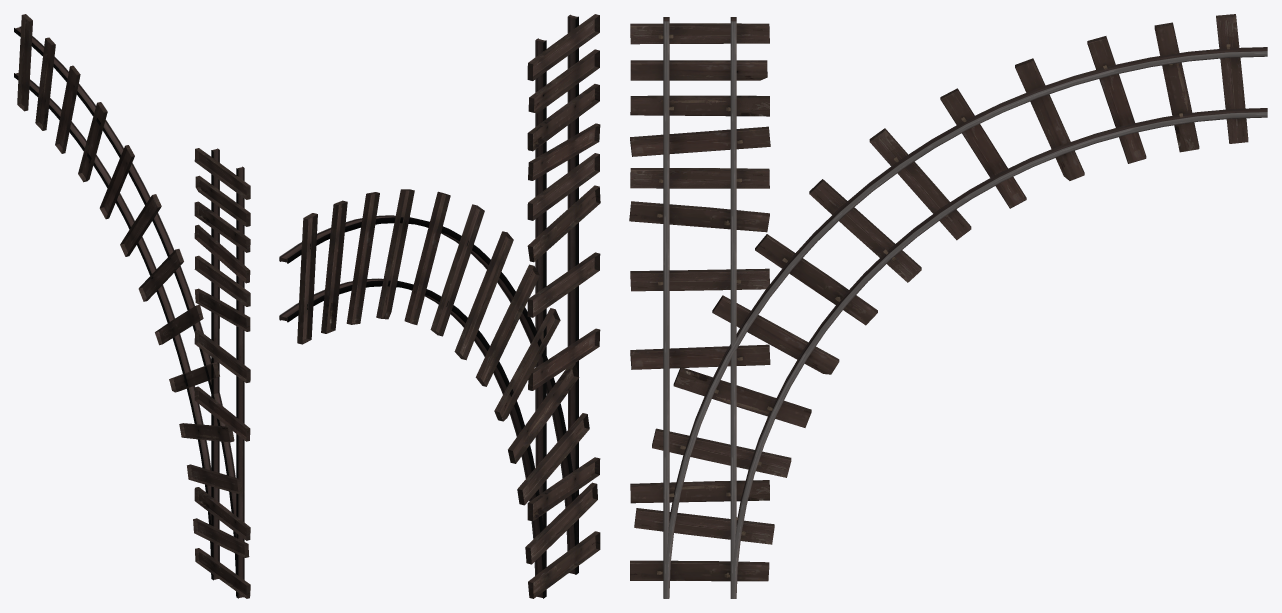
The model's file is props_mining_track_y_joint_arc_90.glb.
3 renders of one model, left to right at view 1: azimuth 30°, elevation 25°; view 2: azimuth 150°, elevation 25°; view 3: azimuth 270°, elevation 25°, orthographic. The views are drawn at different scales.
Visible parts, largest first — view 1: models/props_mining/track_y_joint_arc_90; view 2: models/props_mining/track_y_joint_arc_90; view 3: models/props_mining/track_y_joint_arc_90.
Part boxes in pixels (bbox=[...]): models/props_mining/track_y_joint_arc_90: bbox=[14, 14, 250, 598]; models/props_mining/track_y_joint_arc_90: bbox=[279, 14, 600, 598]; models/props_mining/track_y_joint_arc_90: bbox=[629, 14, 1267, 598].
Bounding box in the file's own units: 6.71 × 256 × 256.
1 material, 1 textured.
